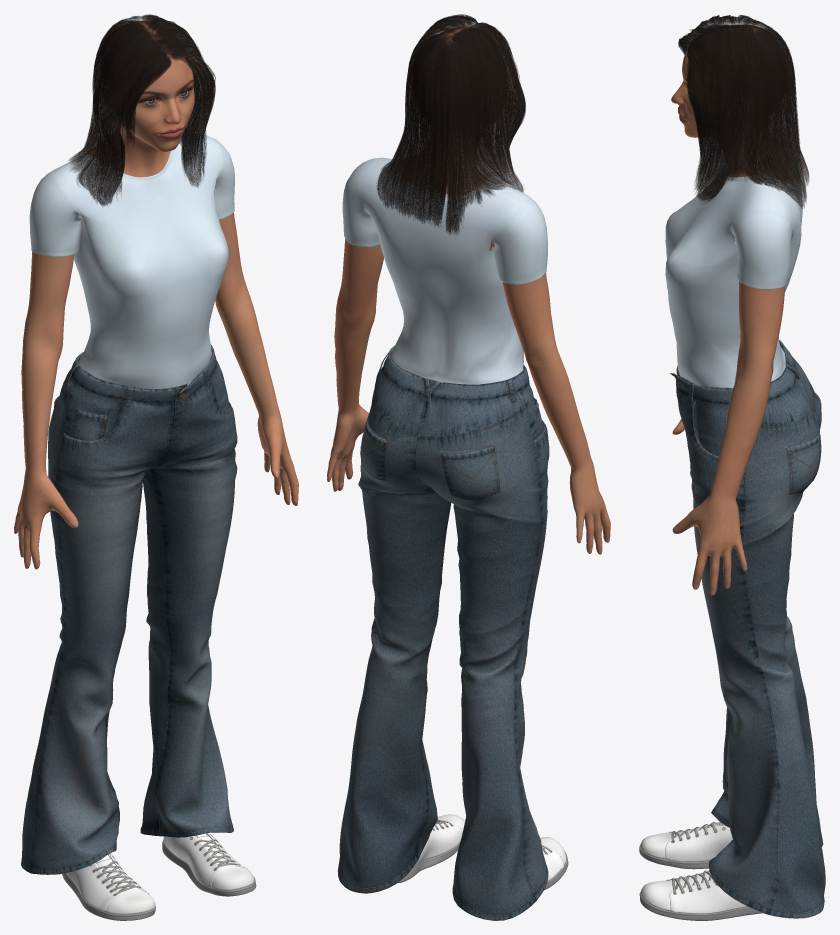
Rendered from singer.glb.
The picture shows the model from 3 angles, left to right: view 1: azimuth 30°, elevation 25°; view 2: azimuth 150°, elevation 25°; view 3: azimuth 270°, elevation 25°; orthographic projection.
Visible parts, largest first — view 1: outfit_bottom.001, outfit_top.001, AvatarBody, haircut, outfit_shoes, AvatarHead; view 2: outfit_bottom.001, outfit_top.001, haircut, AvatarBody, outfit_shoes; view 3: outfit_bottom.001, outfit_top.001, haircut, AvatarBody, outfit_shoes, AvatarHead.
Boxes of the visible parts, box(x1,y1,x2,y2) form: outfit_bottom.001: box(21, 344, 237, 874); outfit_top.001: box(29, 135, 234, 388); AvatarBody: box(14, 212, 298, 569); haircut: box(69, 14, 215, 206); outfit_shoes: box(62, 833, 256, 920); AvatarHead: box(89, 21, 194, 177); outfit_bottom.001: box(337, 345, 549, 920); outfit_top.001: box(342, 157, 547, 384); haircut: box(376, 14, 525, 234); AvatarBody: box(327, 239, 610, 554); outfit_shoes: box(398, 814, 568, 889); outfit_bottom.001: box(670, 340, 825, 918); outfit_top.001: box(665, 168, 802, 387); haircut: box(678, 15, 809, 208); AvatarBody: box(672, 281, 784, 595); outfit_shoes: box(639, 821, 762, 920); AvatarHead: box(671, 24, 781, 177).
Bounding box in the file's own units: 0.5696 × 1.75 × 0.3421.
Materials: 11 (10 with a texture image).
